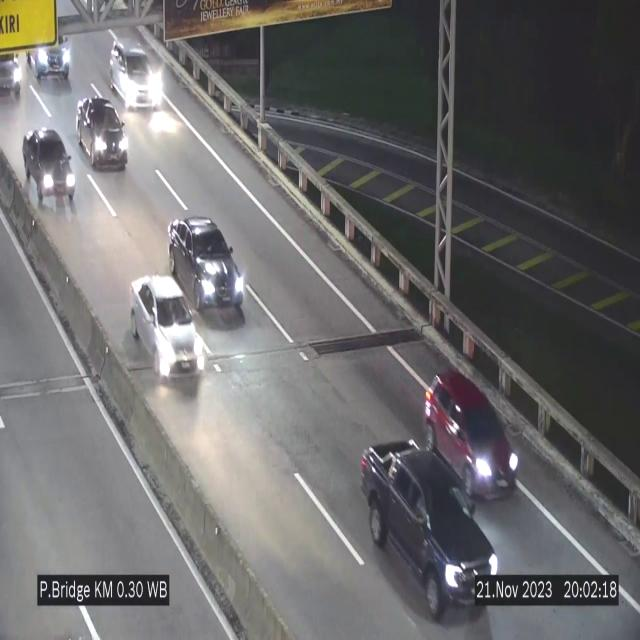Car: (361, 437, 498, 616), (428, 373, 521, 495), (168, 217, 246, 319), (130, 276, 203, 374), (23, 122, 79, 218), (74, 93, 130, 179), (110, 41, 162, 109), (28, 16, 80, 82), (0, 23, 33, 115)
